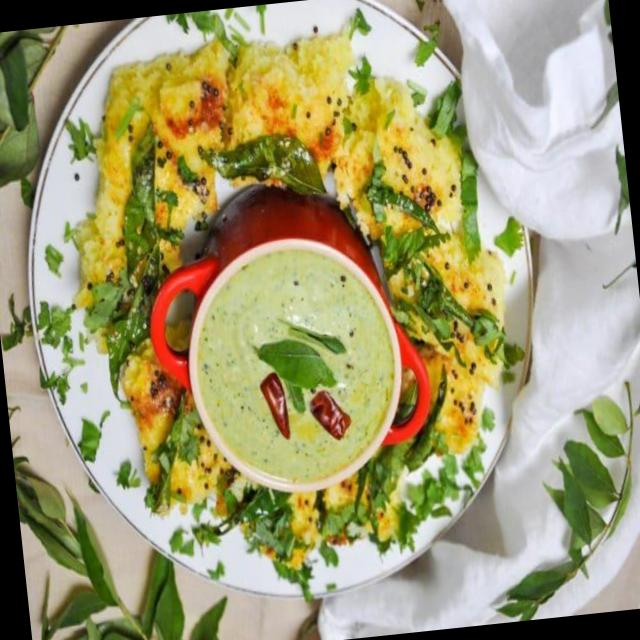dhokla: (68, 11, 505, 571)
